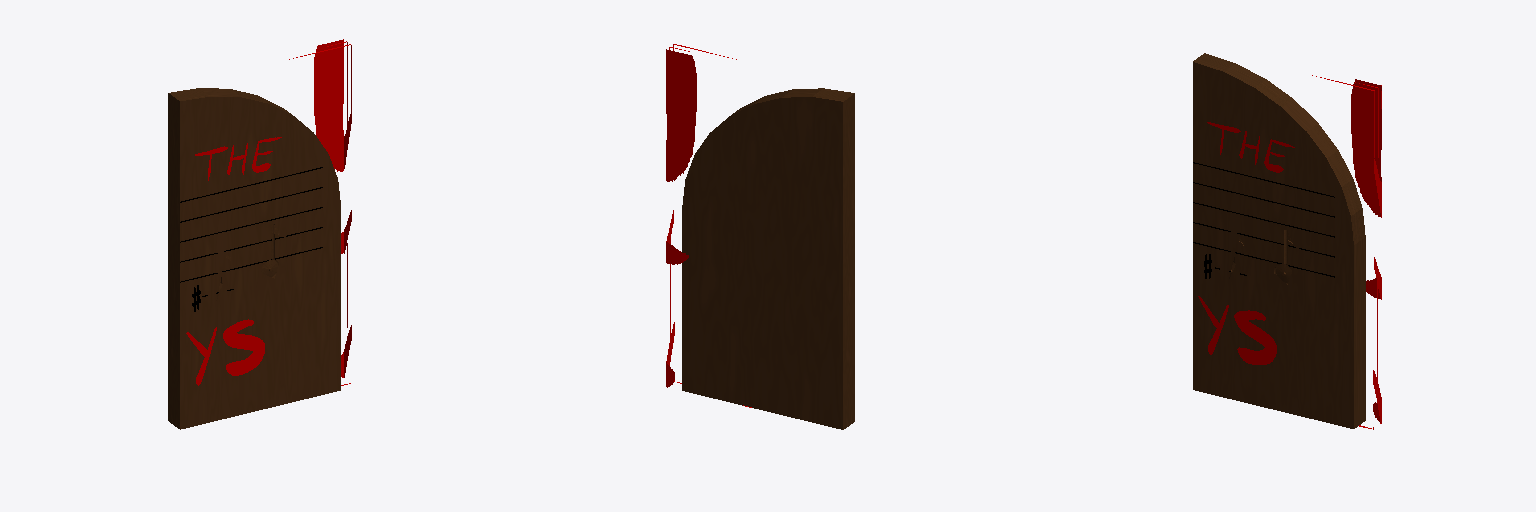
The picture shows the model from 3 angles: view 1: azimuth 30°, elevation 25°; view 2: azimuth 150°, elevation 25°; view 3: azimuth 330°, elevation 25°; orthographic projection.
Parts seen in each view (by area): view 1: door_right, UCX_door_right; view 2: door_right, UCX_door_right; view 3: door_right, UCX_door_right.
Part boxes in pixels (x1,y1,x2,y2): door_right: (168, 88, 340, 429); UCX_door_right: (289, 39, 351, 385); door_right: (682, 88, 854, 429); UCX_door_right: (666, 44, 751, 407); door_right: (1193, 53, 1365, 428); UCX_door_right: (1312, 75, 1381, 429).
Size of the model in its own units: 4.97 by 9.44 by 0.6228.
4 materials, 4 textured.